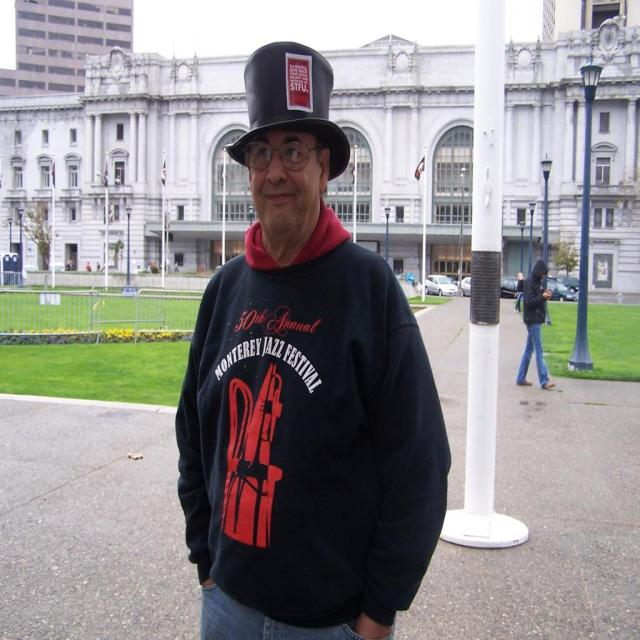Face: (237, 112, 339, 237)
